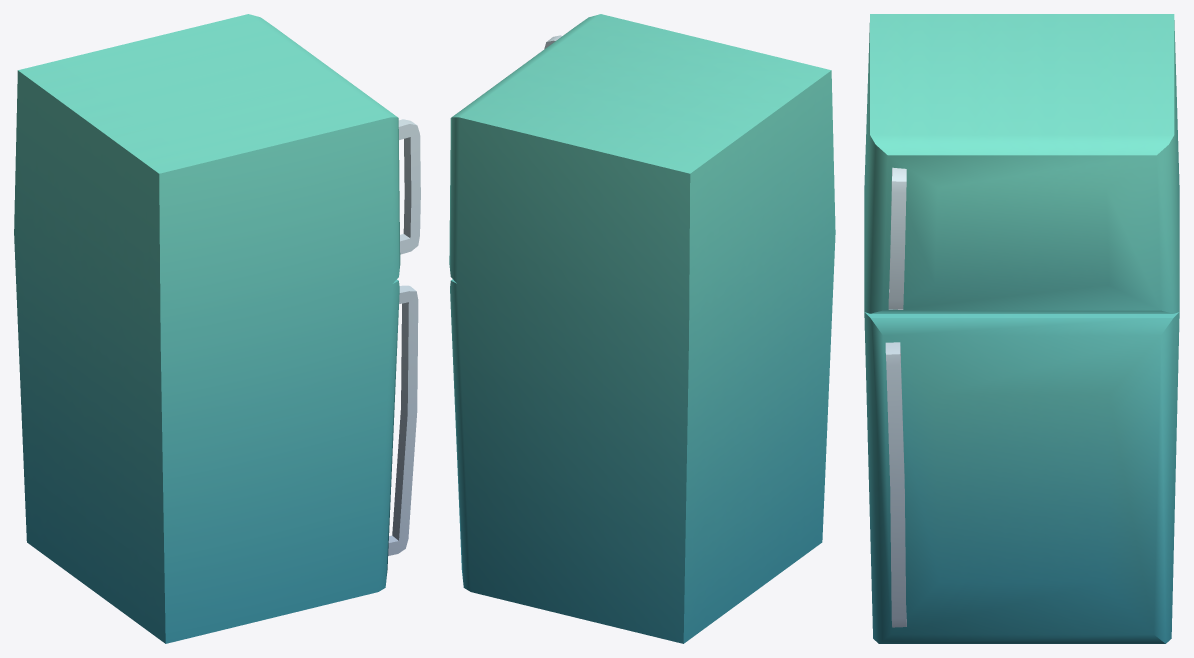
Rendered from Refridgerator.fbx.
3 views of the same model, side by side, from view 1: azimuth 30°, elevation 25°; view 2: azimuth 150°, elevation 25°; view 3: azimuth 270°, elevation 25° (orthographic). The views are drawn at different scales.
Parts seen in each view (by area): view 1: Refrigerator; view 2: Refrigerator; view 3: Refrigerator.
Boxes of the visible parts, <box> form: Refrigerator: <box>14,14,420,643</box>; Refrigerator: <box>449,14,835,643</box>; Refrigerator: <box>864,14,1179,643</box>.
Size of the model in its own units: 120 by 200 by 112.
